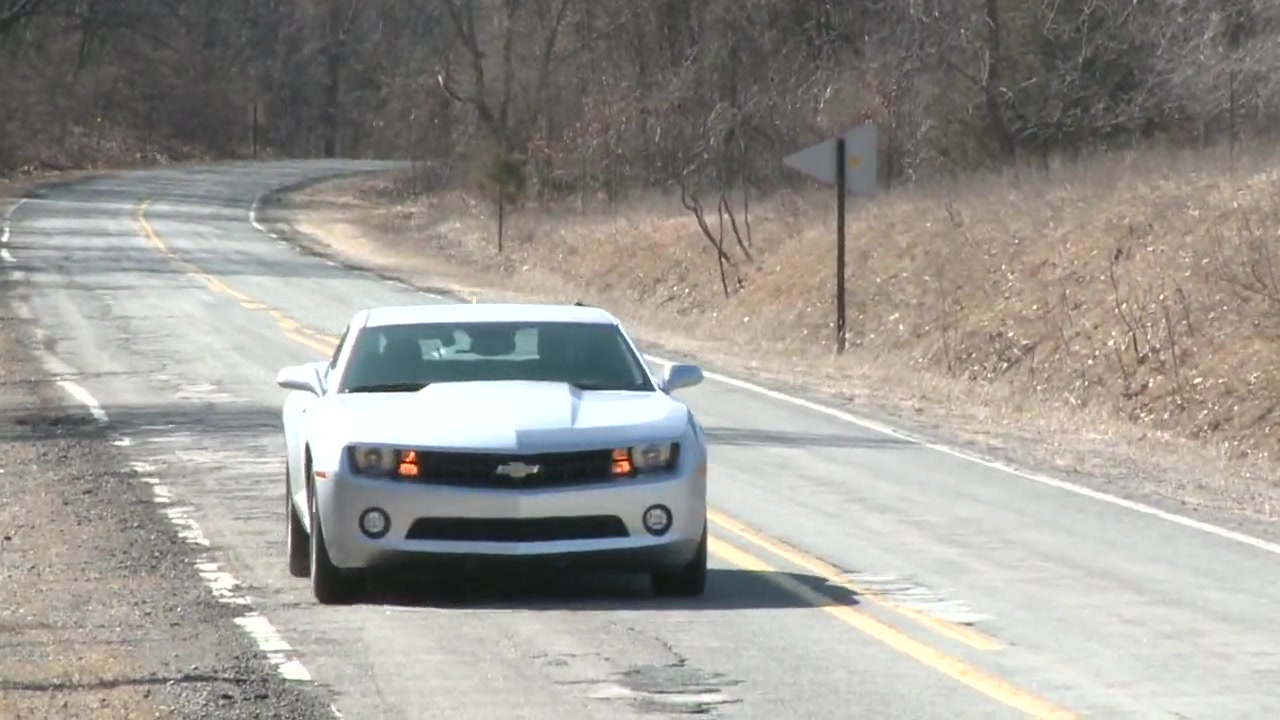car: (274, 303, 717, 604)
